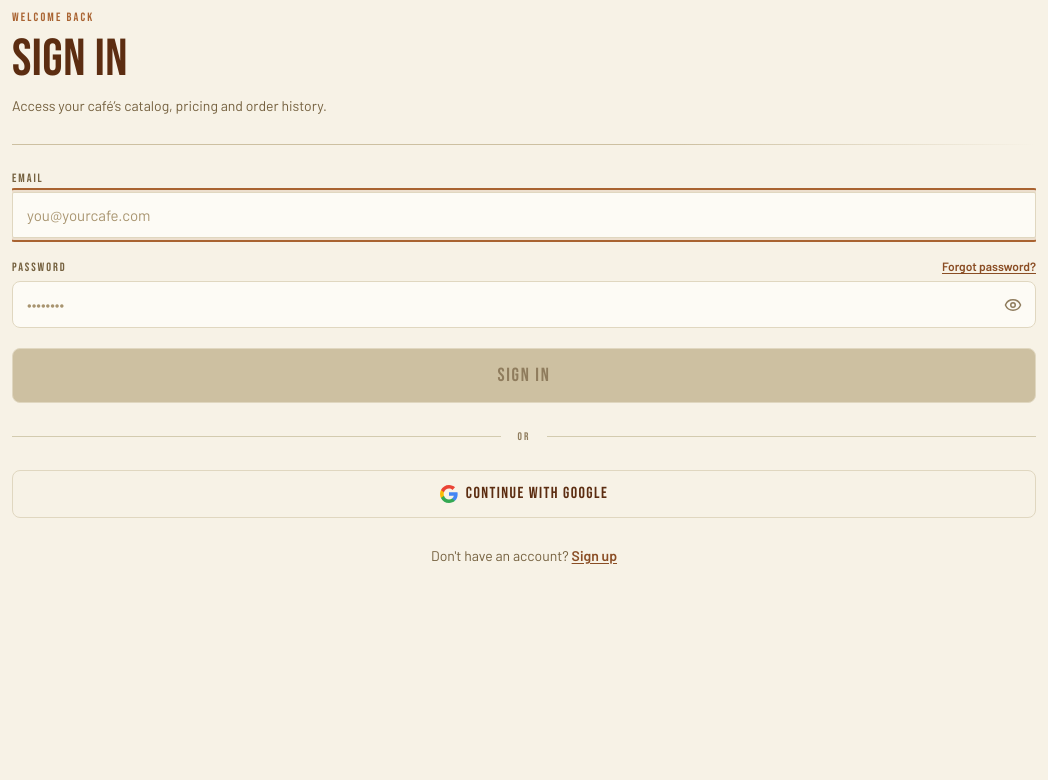
Test case: LoginForm — email sign-in › only shows the terms checkbox in sign-up mode, and requires it before creating an account
The width and height of the screenshot is (1048, 780).
Click the button "Don't have an account? Sign up" at coordinates (524, 556), box [12, 546, 1036, 566]
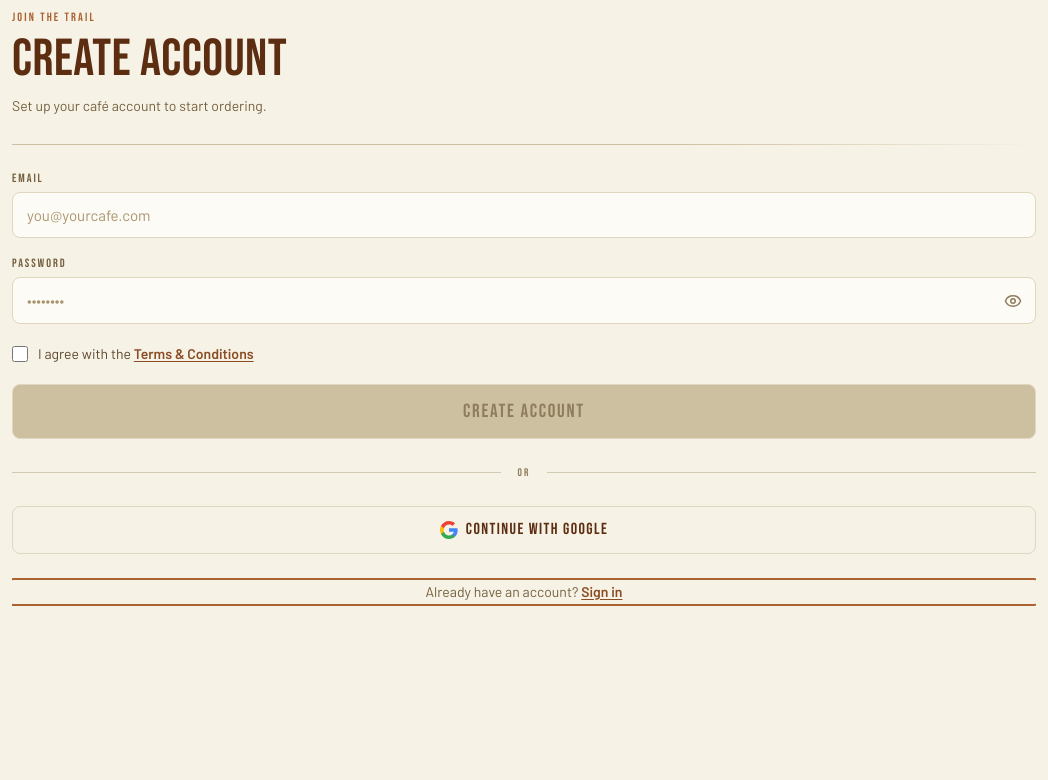
Expected: the checkbox is not checked, [12, 346, 28, 362]
Type "new@example.com" into the field labelled "Email" at coordinates (524, 215), box [12, 192, 1036, 238]
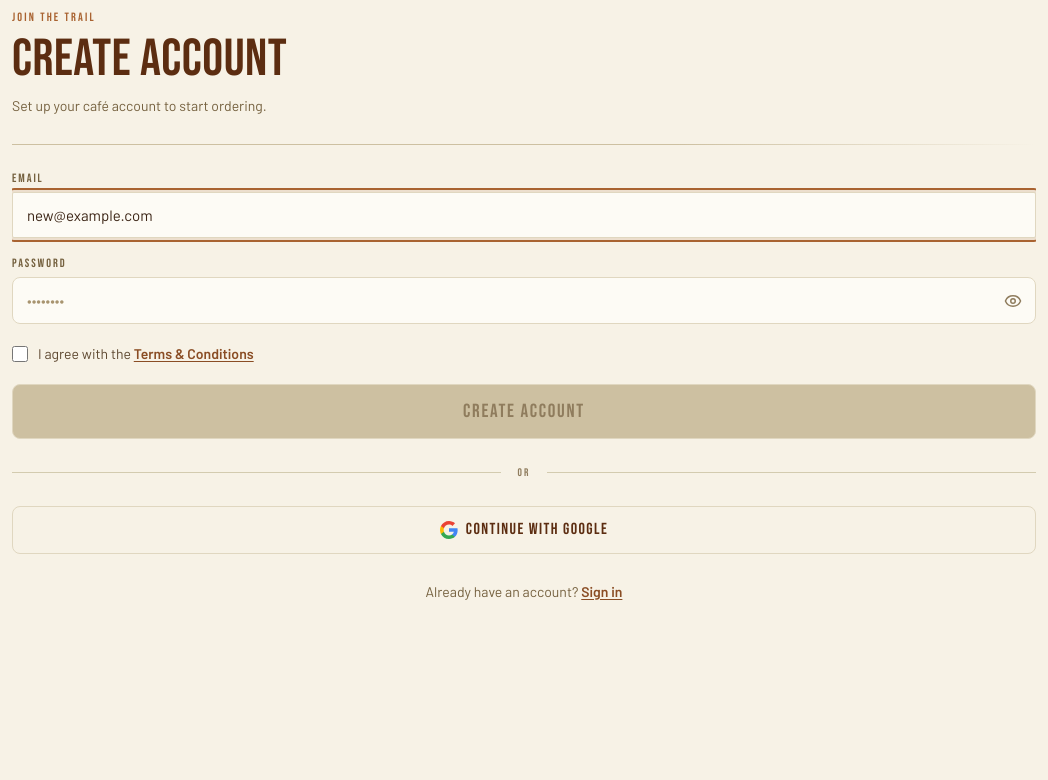
Type "password123" into the password field labelled "Password" at coordinates (524, 301), box [12, 277, 1036, 324]
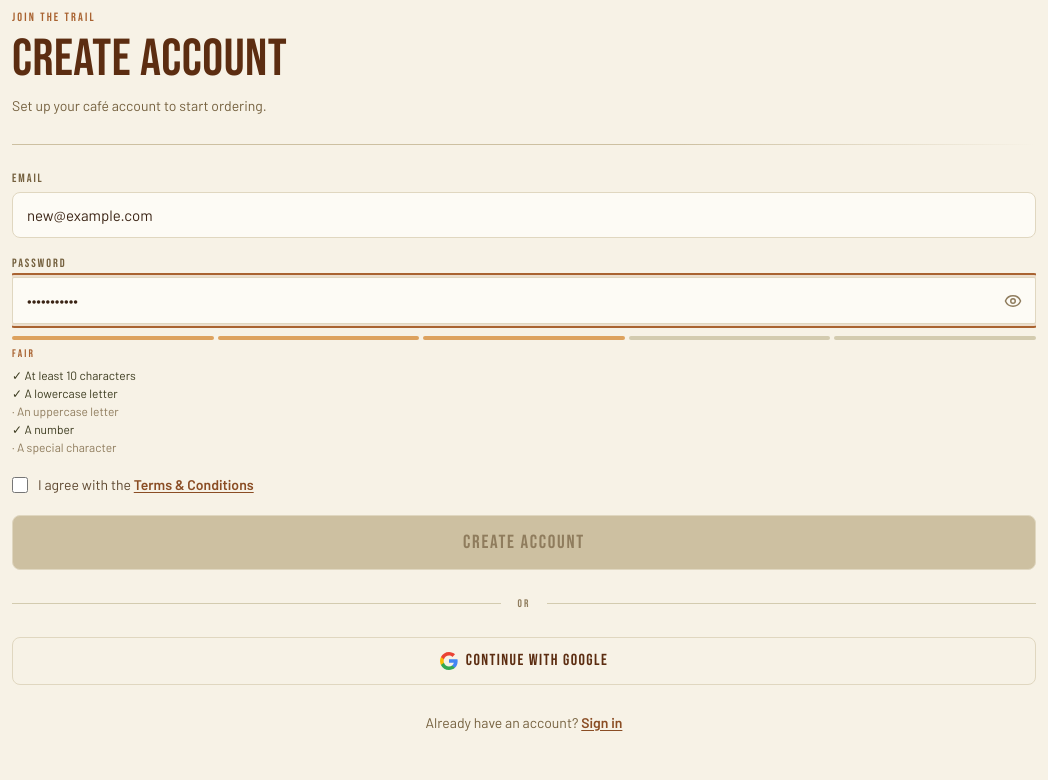
Expected: the button "Create account" is disabled, [12, 515, 1036, 570]
Click the checkbox at coordinates (20, 485), box [12, 477, 28, 493]
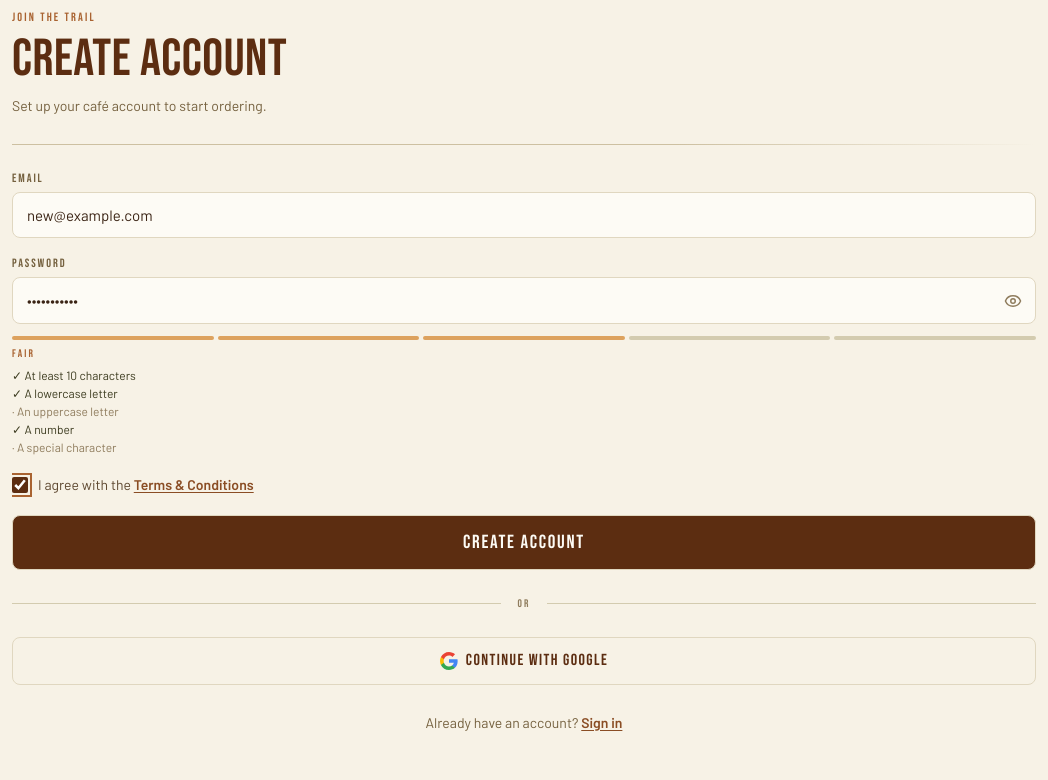
Expected: the checkbox is checked, [12, 477, 28, 493]
Expected: the button "Create account" is enabled, [12, 515, 1036, 570]
